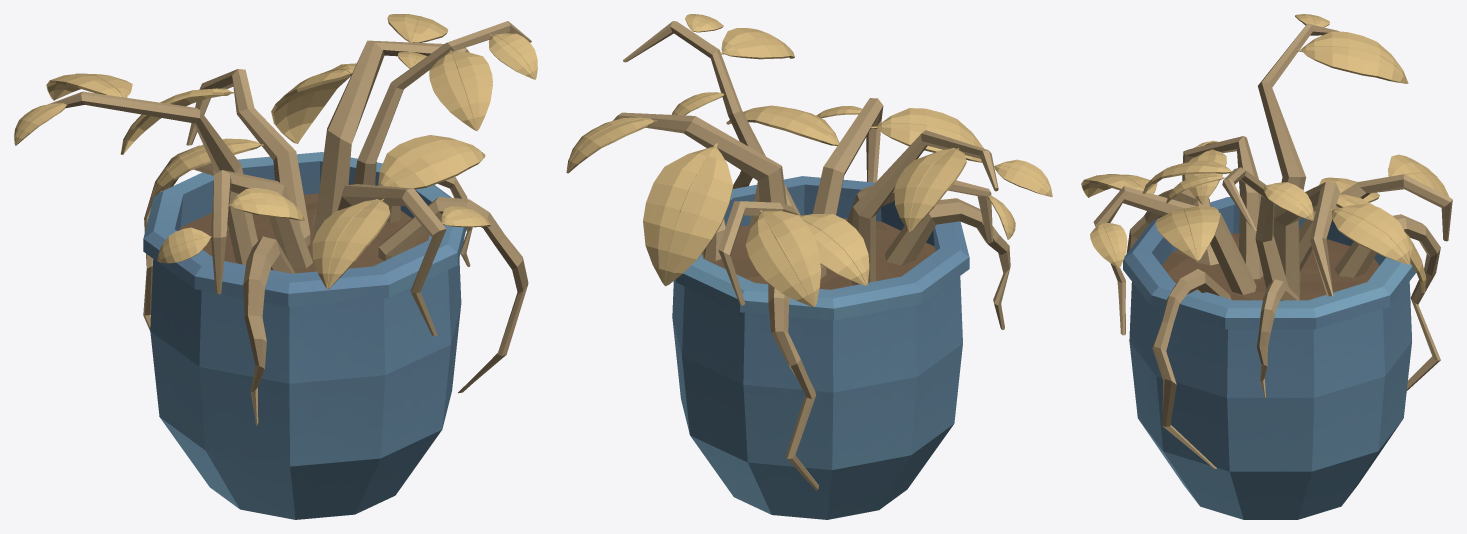
File: plant_2.glb
3 views of the same model, side by side, from view 1: azimuth 30°, elevation 25°; view 2: azimuth 150°, elevation 25°; view 3: azimuth 270°, elevation 25° (orthographic). The views are drawn at different scales.
Parts seen in each view (by area): view 1: plant_2; view 2: plant_2; view 3: plant_2.
Part boxes in pixels (<box>): plant_2: <box>14,14,537,519</box>; plant_2: <box>566,14,1052,519</box>; plant_2: <box>1081,14,1452,519</box>.
Bounding box in the file's own units: 0.7854 × 0.6595 × 0.5788.
1 material, 1 textured.
